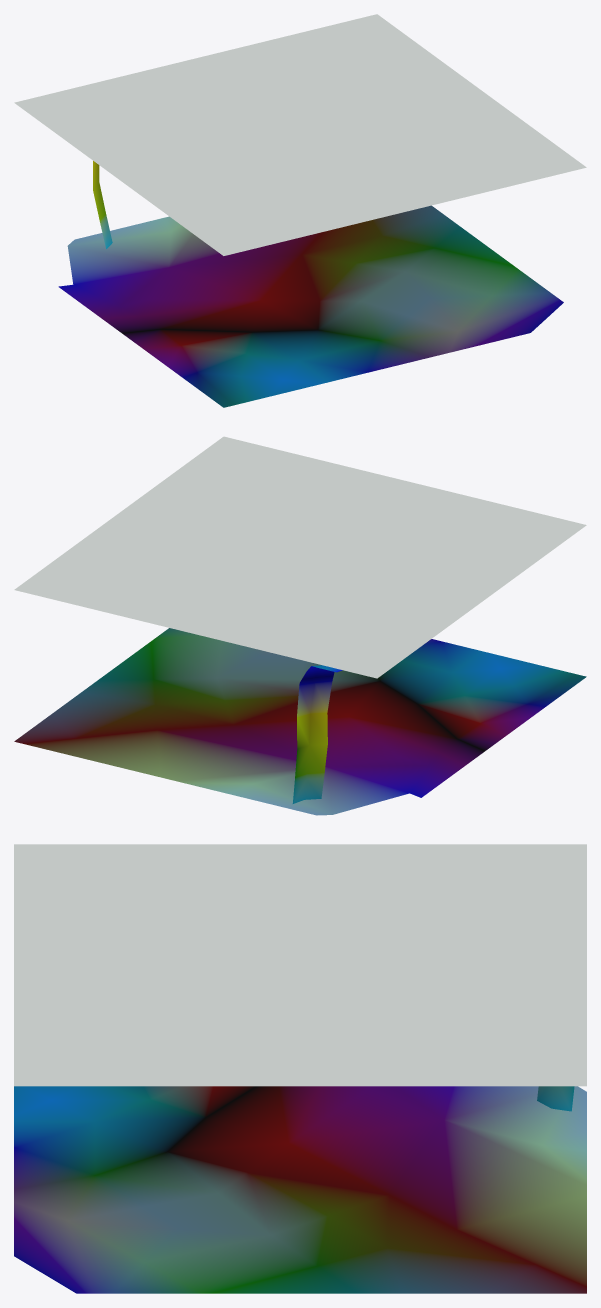
The picture shows the model from 3 angles, top to bottom: view 1: azimuth 30°, elevation 25°; view 2: azimuth 150°, elevation 25°; view 3: azimuth 270°, elevation 25°; orthographic projection. The views are drawn at different scales.
Parts seen in each view (by area): view 1: G:\FFXIV-MapTools\exports\w1f5\bg\ffxiv\wil_w1\fld\w1f5\bgpl (×2); view 2: G:\FFXIV-MapTools\exports\w1f5\bg\ffxiv\wil_w1\fld\w1f5\bgpl (×2); view 3: G:\FFXIV-MapTools\exports\w1f5\bg\ffxiv\wil_w1\fld\w1f5\bgpl (×2).
Boxes of the visible parts, x1,y1,x2,y2 form: G:\FFXIV-MapTools\exports\w1f5\bg\ffxiv\wil_w1\fld\w1f5\bgpl (×2): (14, 14, 586, 407); G:\FFXIV-MapTools\exports\w1f5\bg\ffxiv\wil_w1\fld\w1f5\bgpl (×2): (14, 436, 586, 815); G:\FFXIV-MapTools\exports\w1f5\bg\ffxiv\wil_w1\fld\w1f5\bgpl (×2): (14, 844, 586, 1293).
Bounding box in the file's own units: 128 × 51.31 × 128.
